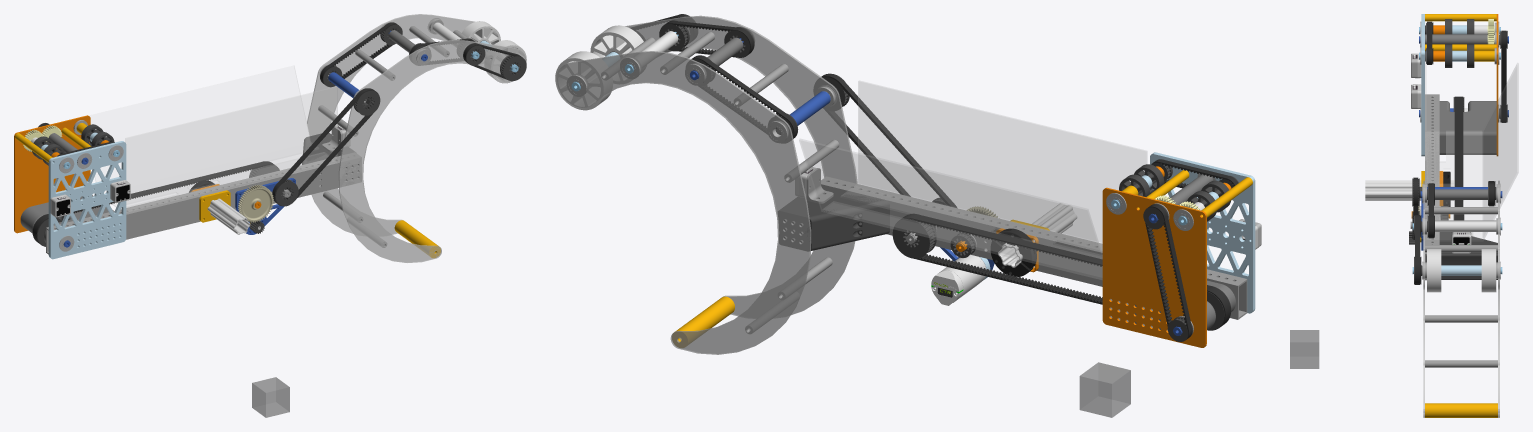
The picture shows the model from 3 angles, left to right: view 1: azimuth 30°, elevation 25°; view 2: azimuth 150°, elevation 25°; view 3: azimuth 270°, elevation 25°; orthographic projection. The views are drawn at different scales.
Parts seen in each view (by area): view 1: 1625-25-P-03308, 1625-25-P-03201 (×2), Part 50, 1625-25-P-03301, Part 52, Origin Cube (×2), 120t 5mm Belt, am-3946 3IN 500Hex Molded Compliant Wheel VER 2 (×2), 220T 5M 15mm Wide Belt, 30T HTD Pulley 9.53mm Wide (×2), 54t 20dp Aluminum 1/2" Hex Bore Pocketed Gear (WCP-0120), 1625-25-P-03302 (+5 smaller); view 2: 1625-25-P-03308, 1625-25-P-03201 (×2), Part 52, 1625-25-P-03301, 1625-25-P-03205, Origin Cube (×2), Part 50, am-3946 3IN 500Hex Molded Compliant Wheel VER 2 (×2), 220T 5M 15mm Wide Belt, 120t 5mm Belt, 85T 5M 9mm Wide Belt, 1625-25-P-03202 (+6 smaller); view 3: 1625-25-P-03308, 1625-25-P-03318, Origin Cube (×2), 1625-25-P-03203 (×4), 1625-25-P-03301, am-3946 3IN 500Hex Molded Compliant Wheel VER 2 (×2), 1625-25-P-03202, 1625-25-P-03302, 1625-25-P-03205, 220T 5M 15mm Wide Belt, 1625-25-P-03201 (×2), ROUND Spacer 4.906 in (×2) (+11 smaller).
Part boxes in pixels (x1,y1,x2,y2): 1625-25-P-03308: (89, 66, 337, 212); 1625-25-P-03201 (×2): (307, 14, 526, 262); Part 50: (48, 141, 126, 259); 1625-25-P-03301: (46, 153, 361, 254); Part 52: (14, 115, 90, 233); Origin Cube (×2): (252, 377, 289, 417); 120t 5mm Belt: (272, 88, 378, 206); am-3946 3IN 500Hex Molded Compliant Wheel VER 2 (×2): (462, 21, 526, 83); 220T 5M 15mm Wide Belt: (32, 161, 277, 246); 30T HTD Pulley 9.53mm Wide (×2): (353, 55, 526, 115); 54t 20dp Aluminum 1/2" Hex Bore Pocketed Gear (WCP-0120): (238, 185, 273, 222); 1625-25-P-03302: (207, 198, 250, 234); 1625-25-P-03308: (799, 80, 1147, 279); 1625-25-P-03201 (×2): (556, 15, 857, 354); Part 52: (1102, 187, 1206, 347); 1625-25-P-03301: (821, 176, 1247, 319); 1625-25-P-03205: (778, 184, 889, 250); Origin Cube (×2): (1080, 362, 1130, 417); Part 50: (1150, 152, 1255, 313); am-3946 3IN 500Hex Molded Compliant Wheel VER 2 (×2): (555, 25, 646, 110); 220T 5M 15mm Wide Belt: (895, 213, 1230, 330); 120t 5mm Belt: (821, 73, 956, 207); 85T 5M 9mm Wide Belt: (1145, 204, 1192, 339); 1625-25-P-03202: (672, 296, 734, 347); 1625-25-P-03308: (1425, 51, 1518, 240); 1625-25-P-03318: (1439, 101, 1496, 154); Origin Cube (×2): (1290, 330, 1318, 368); 1625-25-P-03203 (×4): (1425, 207, 1497, 367); 1625-25-P-03301: (1425, 94, 1439, 280); am-3946 3IN 500Hex Molded Compliant Wheel VER 2 (×2): (1427, 249, 1496, 292); 1625-25-P-03202: (1425, 403, 1497, 417); 1625-25-P-03302: (1365, 180, 1454, 200); 1625-25-P-03205: (1439, 232, 1497, 279); 220T 5M 15mm Wide Belt: (1454, 96, 1463, 220); 1625-25-P-03201 (×2): (1423, 180, 1499, 417); ROUND Spacer 4.906 in (×2): (1425, 14, 1496, 50).
Bounding box in the file's own units: 1.02 × 0.5515 × 0.3981.
